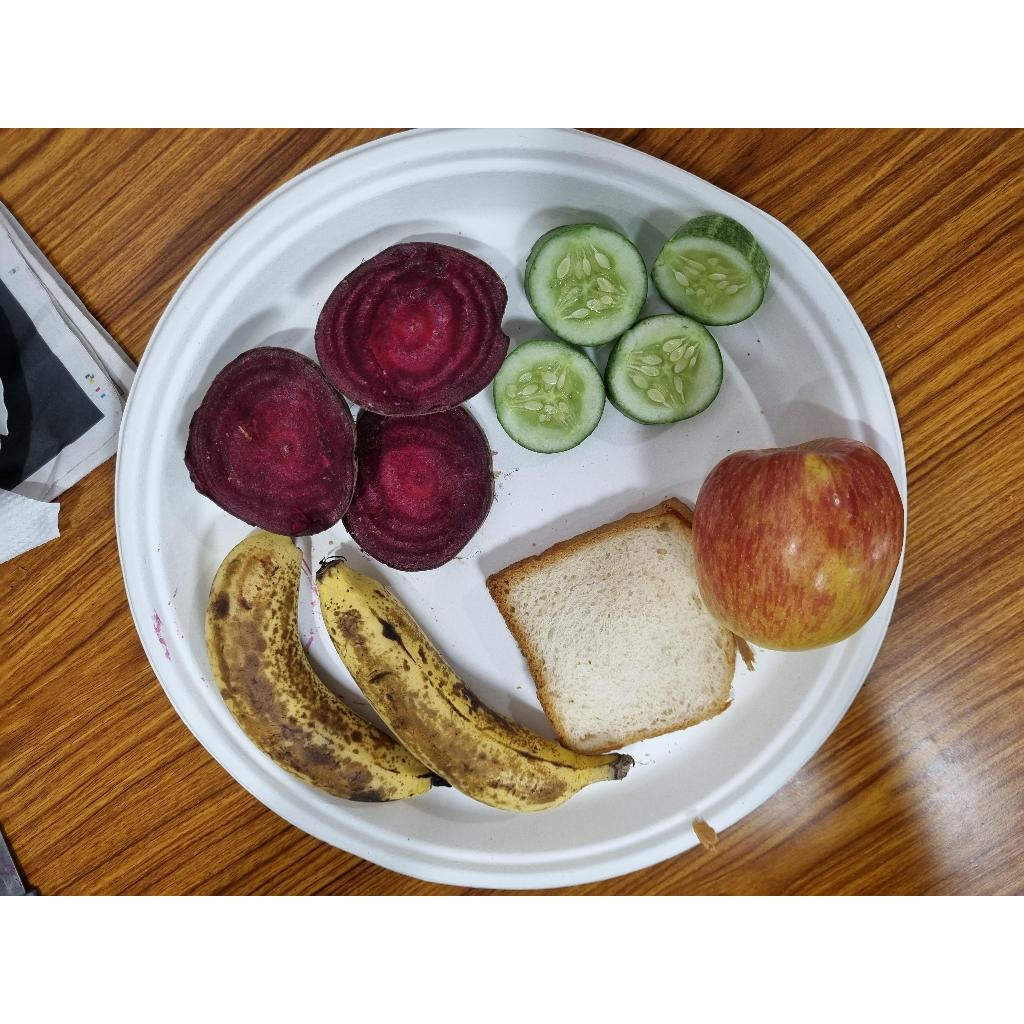apple: (693, 438, 908, 655)
banana: (304, 526, 631, 815), (204, 532, 449, 804)
cucumber: (519, 221, 649, 351), (647, 214, 771, 332), (604, 316, 728, 431), (491, 338, 609, 457)
